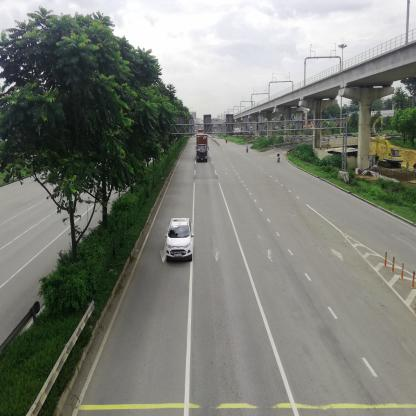car: (168, 219, 194, 263)
container: (197, 134, 210, 164)
motorbike: (278, 155, 281, 164), (247, 149, 250, 153)
